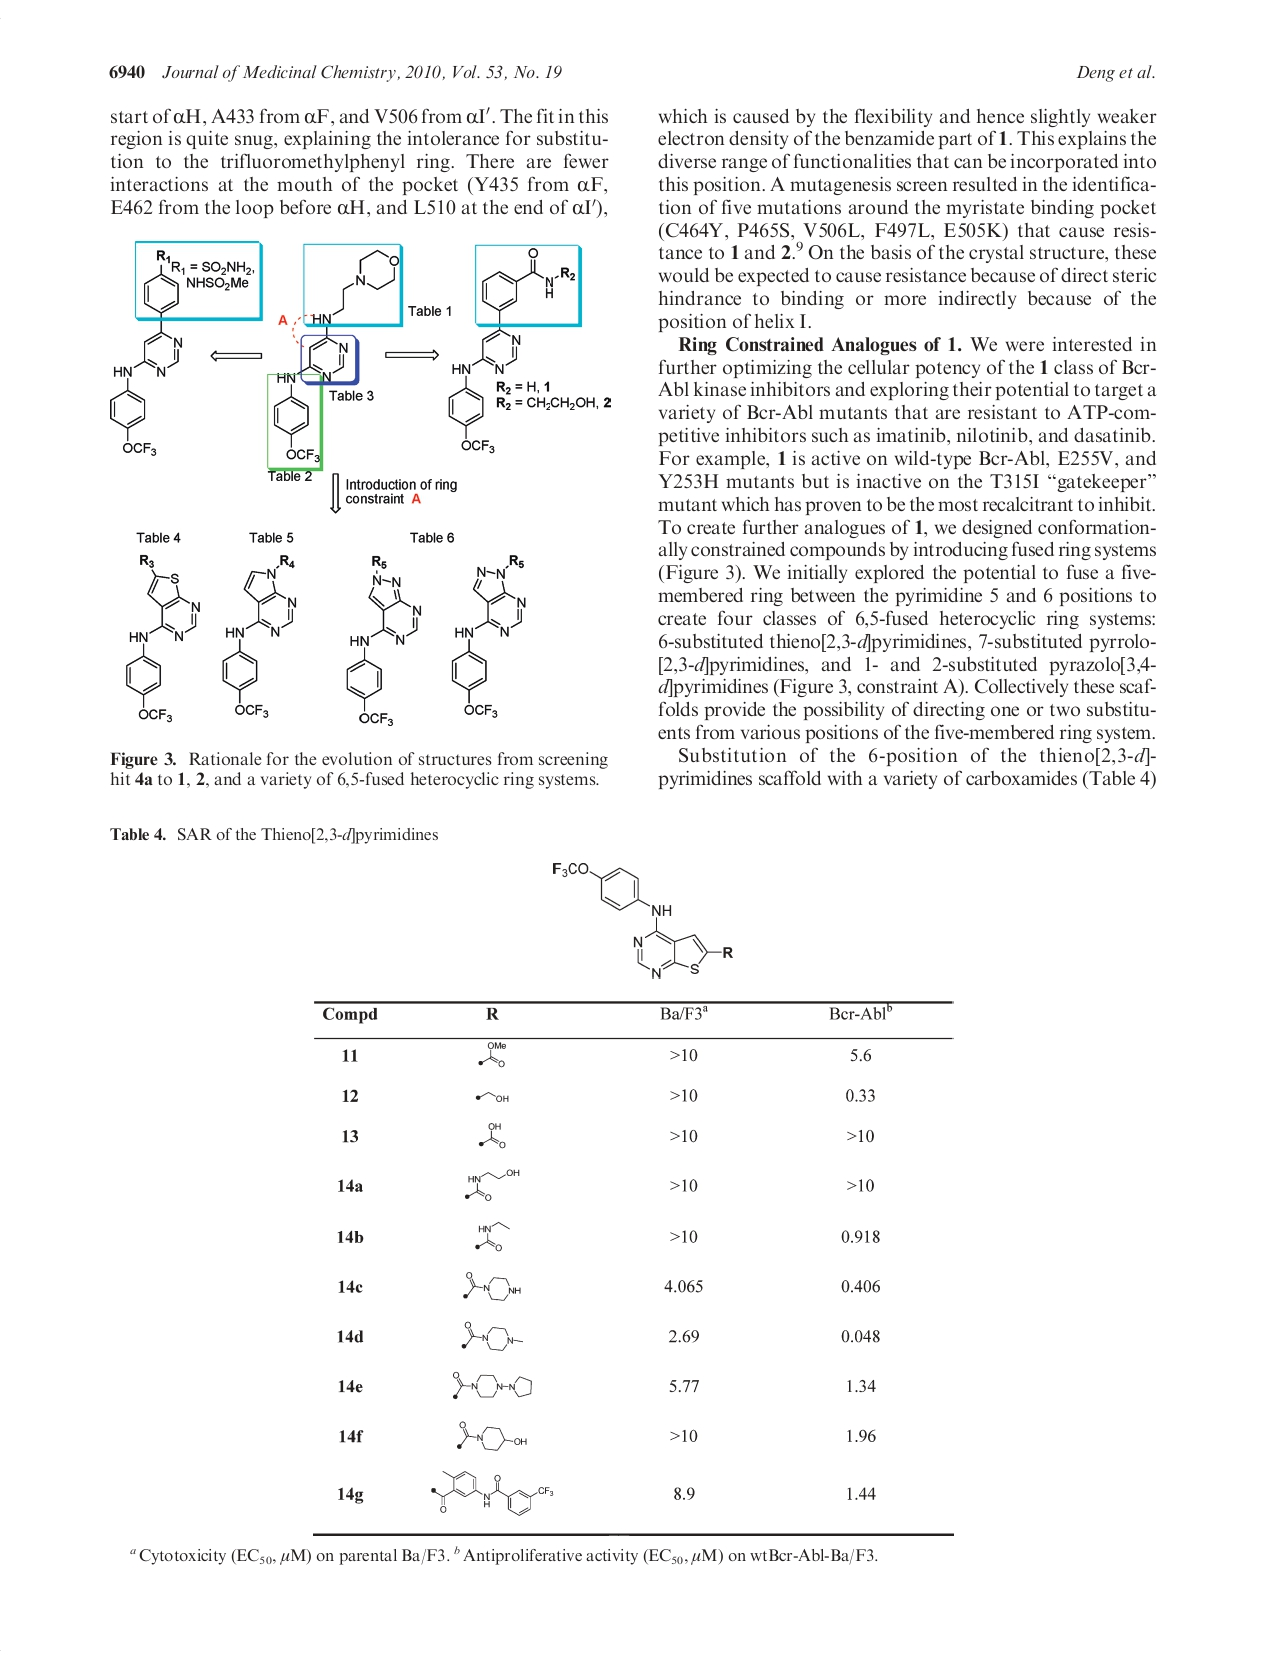exist_molecular: (273, 247, 402, 463), (445, 247, 578, 453), (551, 858, 734, 981), (108, 247, 185, 457), (344, 553, 424, 727), (124, 552, 203, 723), (449, 552, 528, 719), (219, 553, 298, 719), (430, 1470, 555, 1516), (451, 1370, 535, 1400), (456, 1420, 529, 1451), (460, 1321, 525, 1351), (464, 1168, 521, 1201), (461, 1271, 523, 1302), (473, 1220, 512, 1251), (477, 1121, 507, 1150), (477, 1041, 508, 1069), (473, 1091, 511, 1102)
